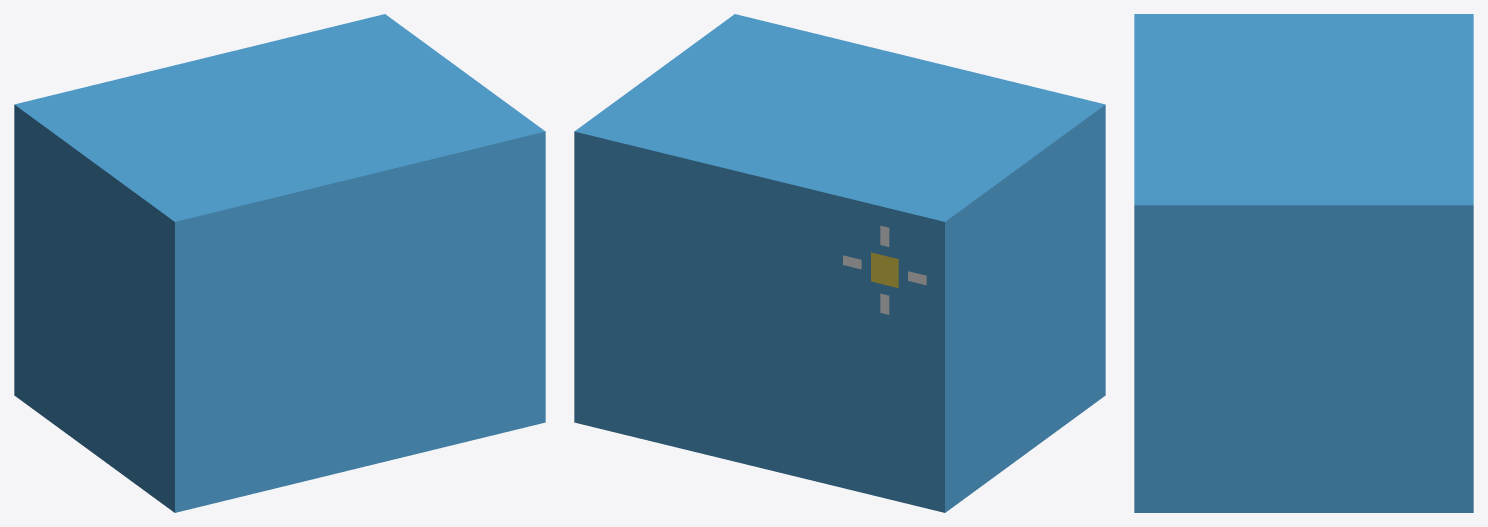
The model's file is lakeside.obj.
The picture shows the model from 3 angles, left to right: view 1: azimuth 30°, elevation 25°; view 2: azimuth 150°, elevation 25°; view 3: azimuth 270°, elevation 25°; orthographic projection. The views are drawn at different scales.
Size of the model in its own units: 40 by 30 by 30.
